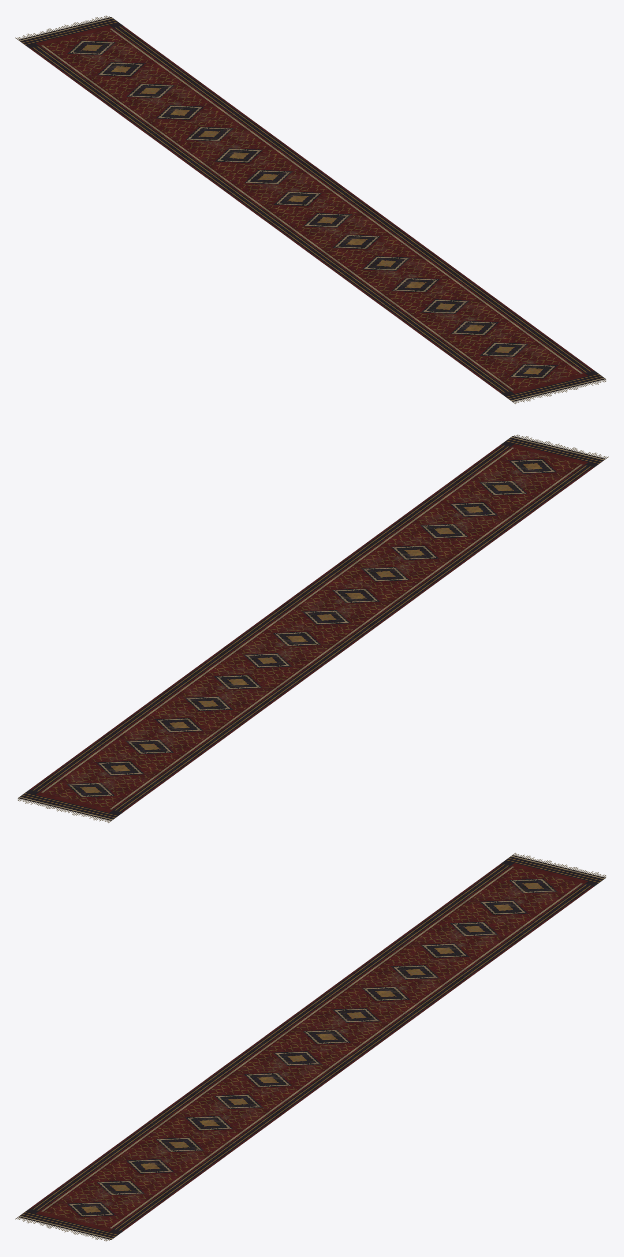
Rendered from Atmos_Runner_Side.fbx.
3 views of the same model, one above another, from view 1: azimuth 30°, elevation 25°; view 2: azimuth 150°, elevation 25°; view 3: azimuth 330°, elevation 25° (orthographic).
Parts seen in each view (by area): view 1: Atmos_Runner_Side; view 2: Atmos_Runner_Side; view 3: Atmos_Runner_Side.
Part boxes in pixels (x1,y1,x2,y2): Atmos_Runner_Side: (15,15,605,403); Atmos_Runner_Side: (18,434,608,822); Atmos_Runner_Side: (15,853,605,1241).
Bounding box in the file's own units: 140 × 0 × 1300.
Materials: 1 (1 with a texture image).
